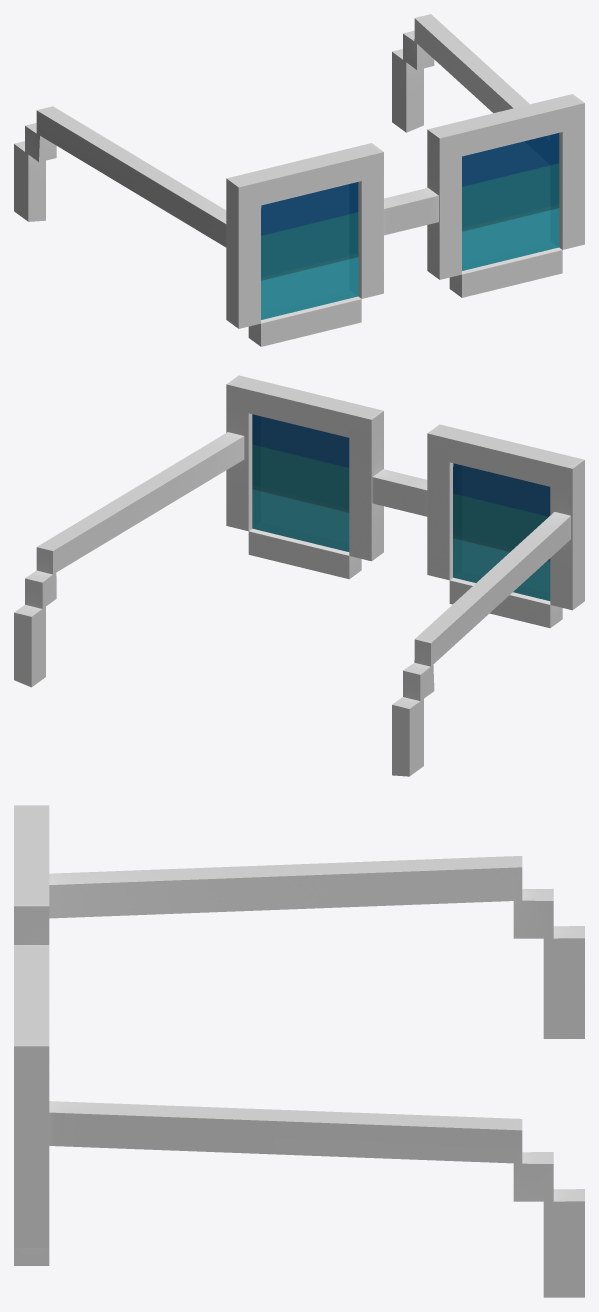
The model's file is glasses-58.glb.
3 renders of one model, top to bottom at view 1: azimuth 30°, elevation 25°; view 2: azimuth 150°, elevation 25°; view 3: azimuth 270°, elevation 25°, orthographic. The views are drawn at different scales.
Parts seen in each view (by area): view 1: Wolf3D_Glasses; view 2: Wolf3D_Glasses; view 3: Wolf3D_Glasses.
Part boxes in pixels (<box>): Wolf3D_Glasses: <box>14,14,584,346</box>; Wolf3D_Glasses: <box>14,375,584,776</box>; Wolf3D_Glasses: <box>14,805,584,1297</box>.
Size of the model in its own units: 0.168 by 0.0679 by 0.1472.
1 material, 1 textured.
